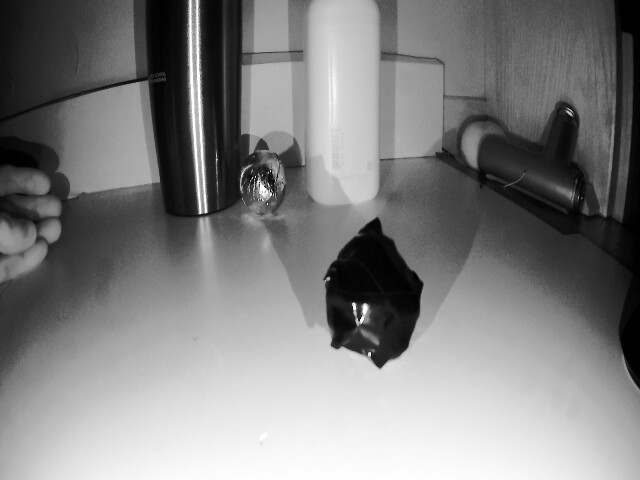black: (239, 153, 291, 226)
silver: (325, 227, 431, 366)
